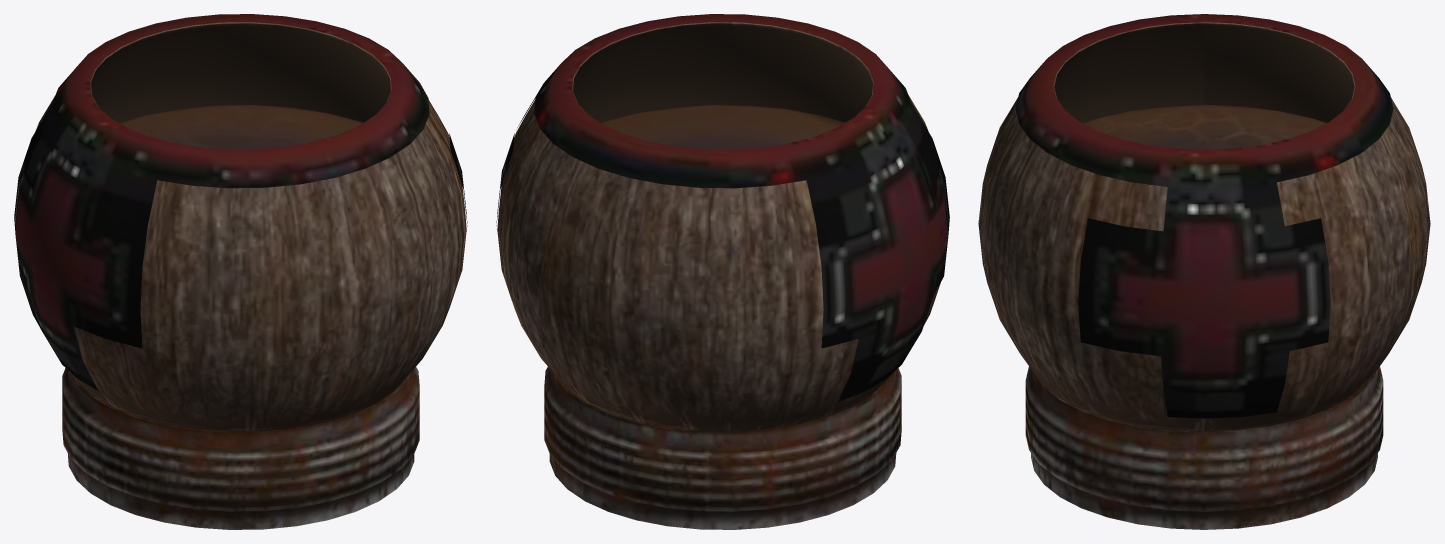
File: advancedhealingtea.glb
3 renders of one model, left to right at view 1: azimuth 30°, elevation 25°; view 2: azimuth 150°, elevation 25°; view 3: azimuth 270°, elevation 25°, orthographic.
Visible parts, largest first — view 1: AdvancedHealingTea_LOD0; view 2: AdvancedHealingTea_LOD0; view 3: AdvancedHealingTea_LOD0.
Boxes of the visible parts, left/top/right/bottom form: AdvancedHealingTea_LOD0: left=14, top=14, right=467, bottom=529; AdvancedHealingTea_LOD0: left=496, top=14, right=949, bottom=529; AdvancedHealingTea_LOD0: left=978, top=14, right=1430, bottom=529.
Bounding box in the file's own units: 0.1103 × 0.0993 × 0.1097.
2 materials, 2 textured.
